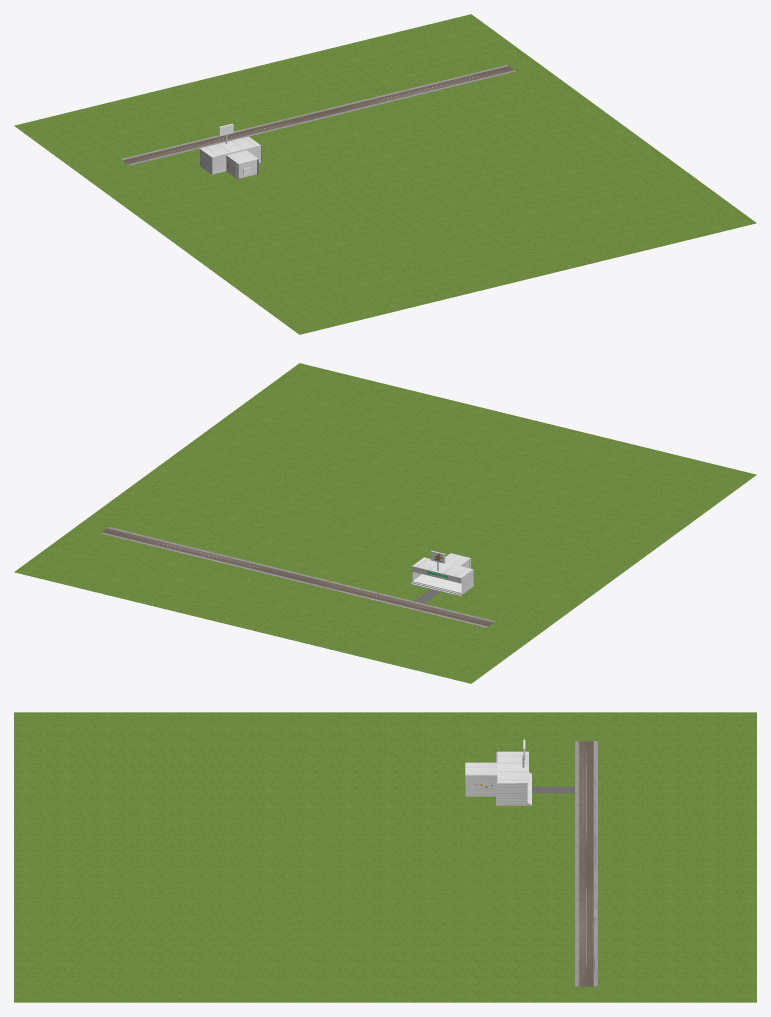
File: base_modelnofood.gltf
3 views of the same model, one above another, from view 1: azimuth 30°, elevation 25°; view 2: azimuth 150°, elevation 25°; view 3: azimuth 270°, elevation 25° (orthographic). The views are drawn at different scales.
Visible parts, largest first — view 1: Cube.033, Cube.055, Cube.054, Cube.056, Cube.017; view 2: Cube.033, Cube.055, Cube.056, Cube.054, Cube.017; view 3: Cube.033, Cube.055, Cube.054, Cube.056, Cube.017.
Part boxes in pixels (box(x1,y1,x2,y2)): Cube.033: box(14, 14, 756, 334); Cube.055: box(123, 66, 514, 164); Cube.054: box(128, 70, 515, 165); Cube.056: box(121, 65, 508, 160); Cube.017: box(200, 136, 260, 157); Cube.033: box(14, 363, 756, 683); Cube.055: box(102, 528, 493, 626); Cube.056: box(101, 532, 487, 627); Cube.054: box(108, 527, 495, 622); Cube.017: box(412, 557, 472, 578); Cube.033: box(14, 712, 756, 1002); Cube.055: box(579, 741, 593, 986); Cube.054: box(575, 741, 579, 986); Cube.056: box(593, 741, 597, 986); Cube.017: box(497, 751, 528, 782).
Bounding box in the file's own units: 705 × 55.36 × 763.
